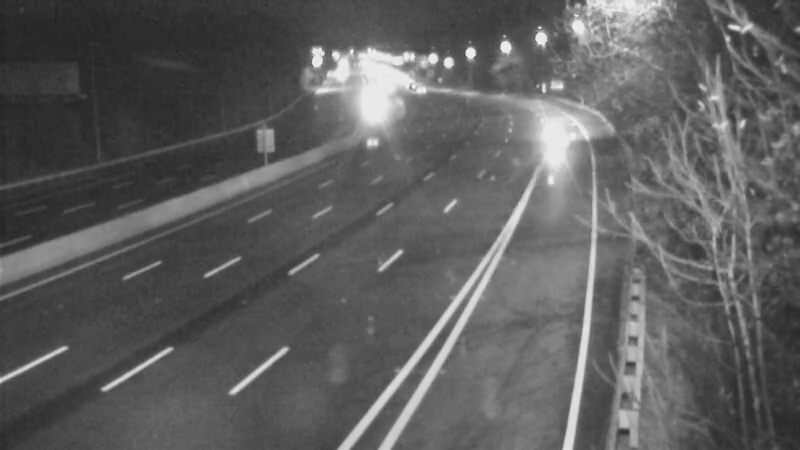vehicle: (395, 64, 445, 114), (533, 102, 583, 152), (343, 87, 393, 137)
